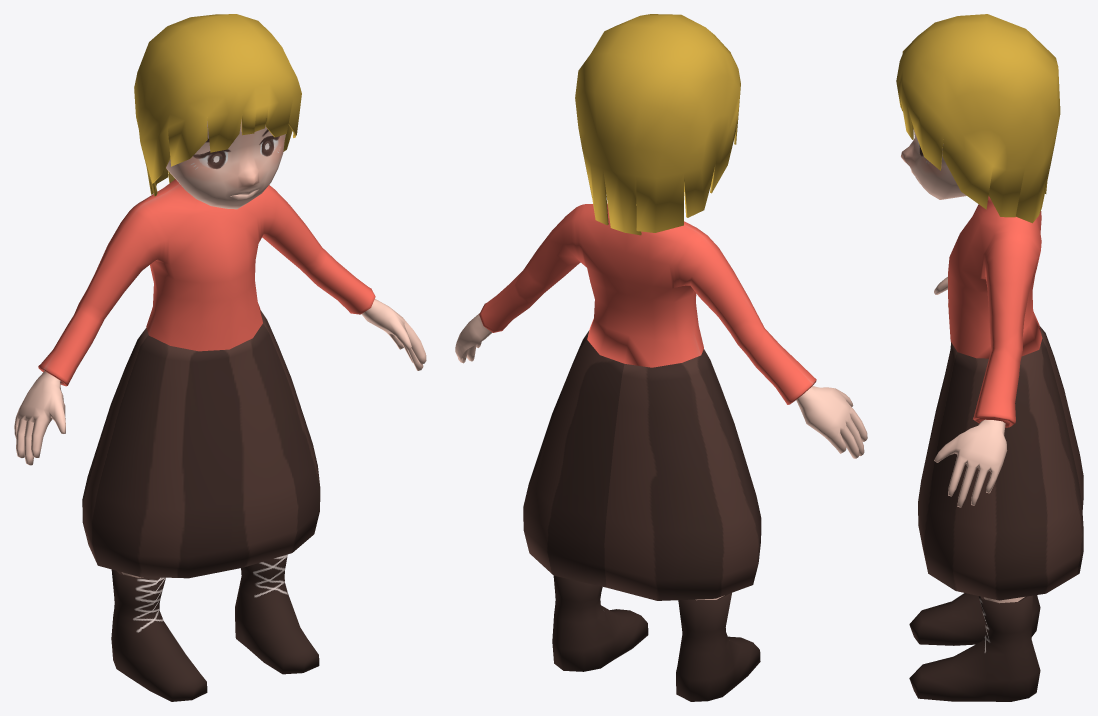
File: C_NPC.2fbx.fbx
3 renders of one model, left to right at view 1: azimuth 30°, elevation 25°; view 2: azimuth 150°, elevation 25°; view 3: azimuth 270°, elevation 25°, orthographic.
Parts seen in each view (by area): view 1: NPC2; view 2: NPC2; view 3: NPC2.
Boxes of the visible parts, bbox=[...] form: NPC2: bbox=[14, 14, 426, 701]; NPC2: bbox=[455, 14, 867, 701]; NPC2: bbox=[896, 14, 1083, 701].
Bounding box in the file's own units: 60.02 × 92.42 × 24.41.
